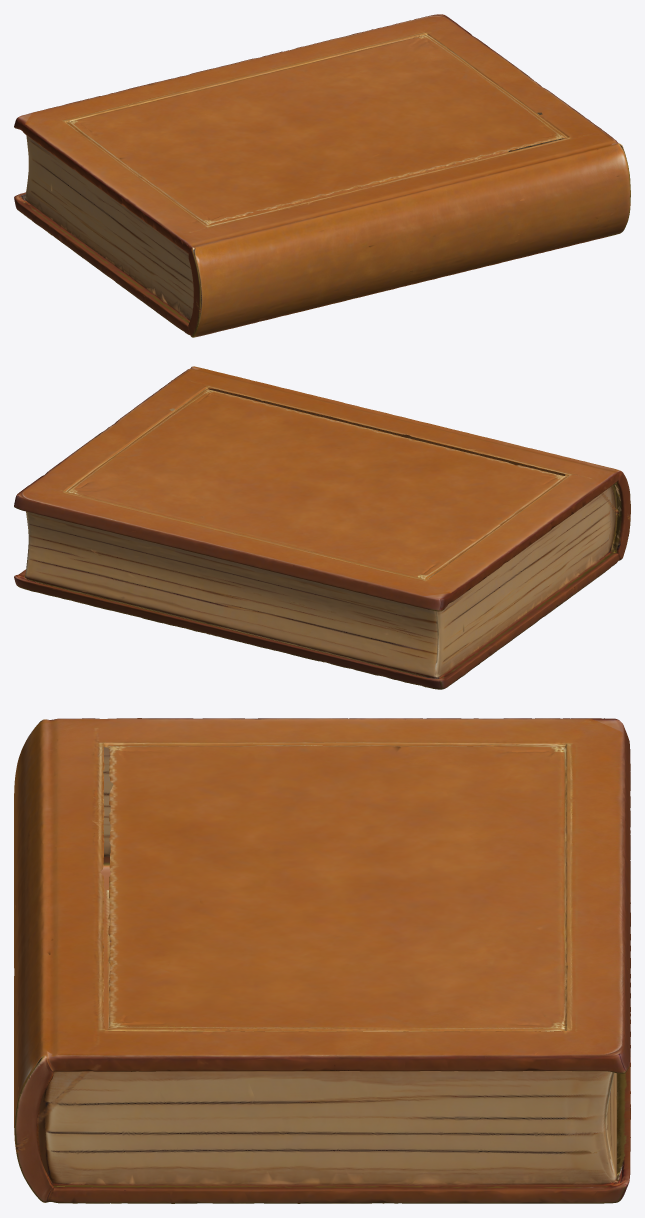
File: Ancient_Tome_1016022535_texture.fbx
The picture shows the model from 3 angles, top to bottom: view 1: azimuth 30°, elevation 25°; view 2: azimuth 150°, elevation 25°; view 3: azimuth 270°, elevation 25°; orthographic projection. The views are drawn at different scales.
Parts seen in each view (by area): view 1: input; view 2: input; view 3: input.
Boxes of the visible parts, bbox=[...] form: input: bbox=[14, 14, 630, 337]; input: bbox=[14, 366, 630, 689]; input: bbox=[14, 718, 630, 1203].
Bounding box in the file's own units: 190 × 38.68 × 145.
1 material, 1 textured.
